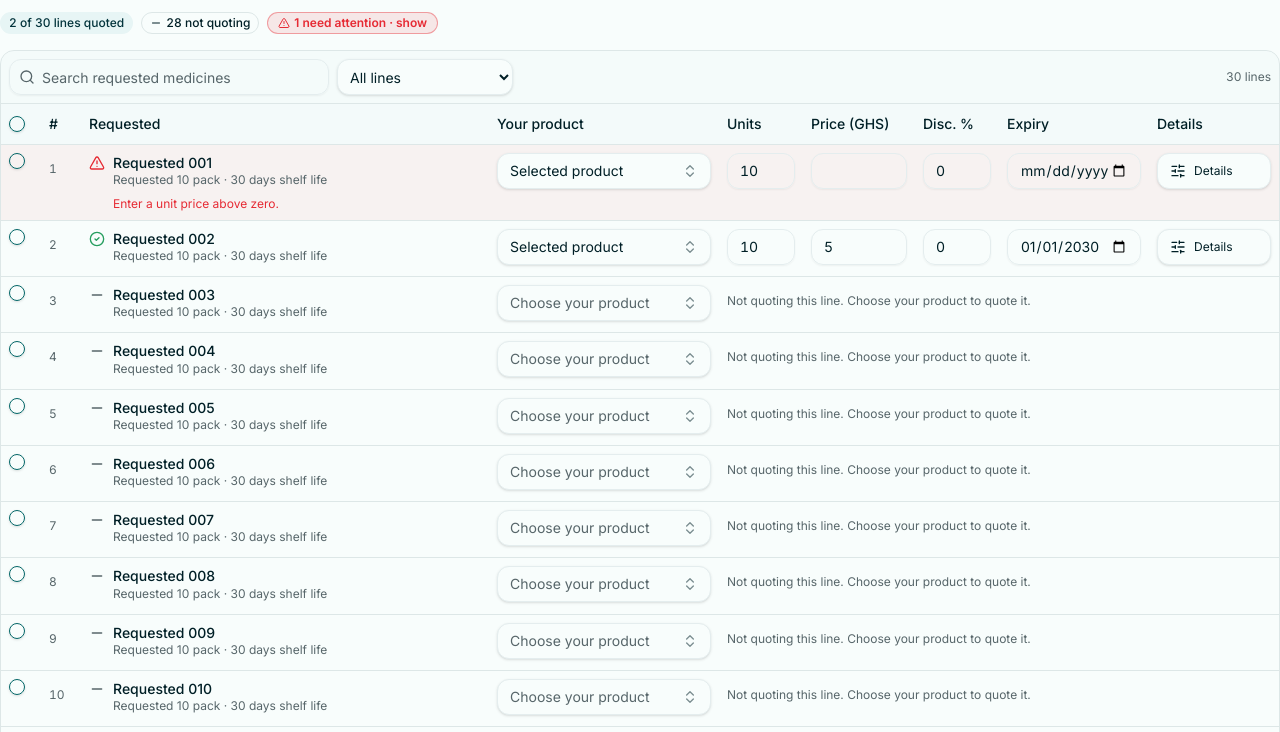
explains why a quoted line cannot be submitted and filters to such lines
Step 1. Click the button "1 need attention · show" → click(353, 23), box [267,12,438,34]
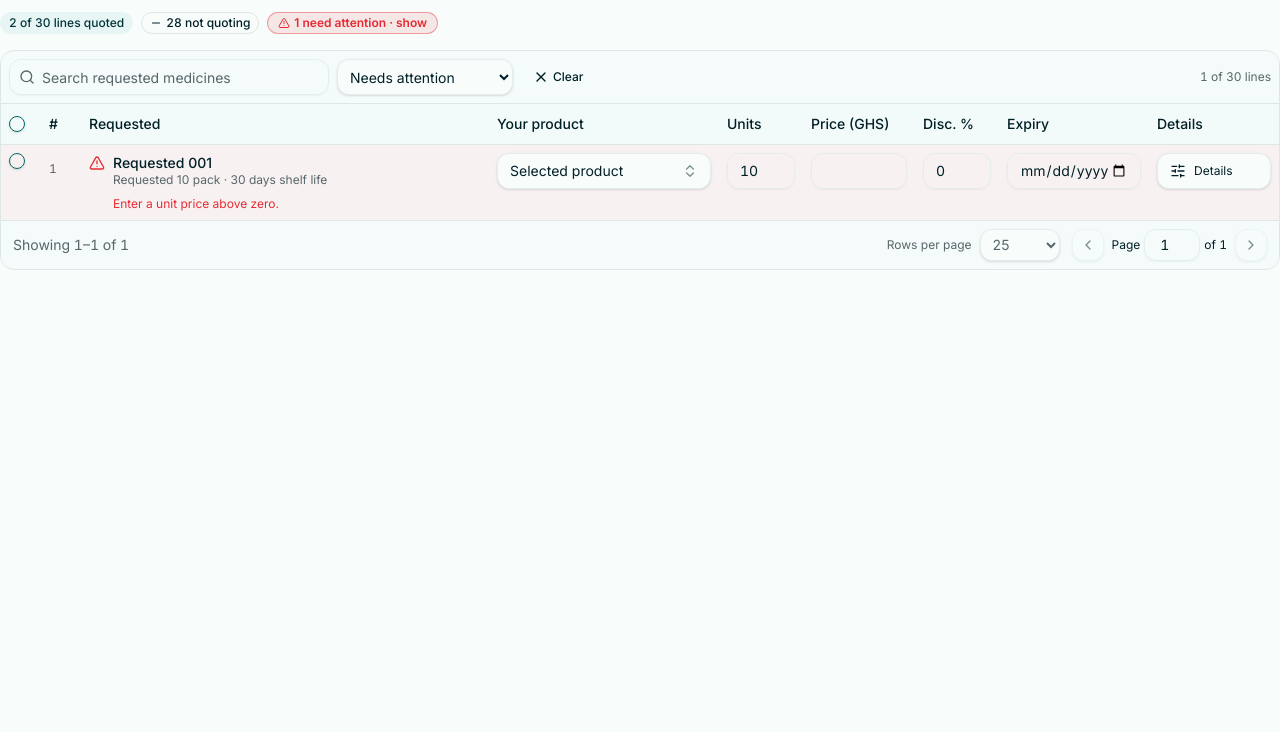
Expected: the text "1 of 30 lines" is shown, [1200,69,1271,85]
